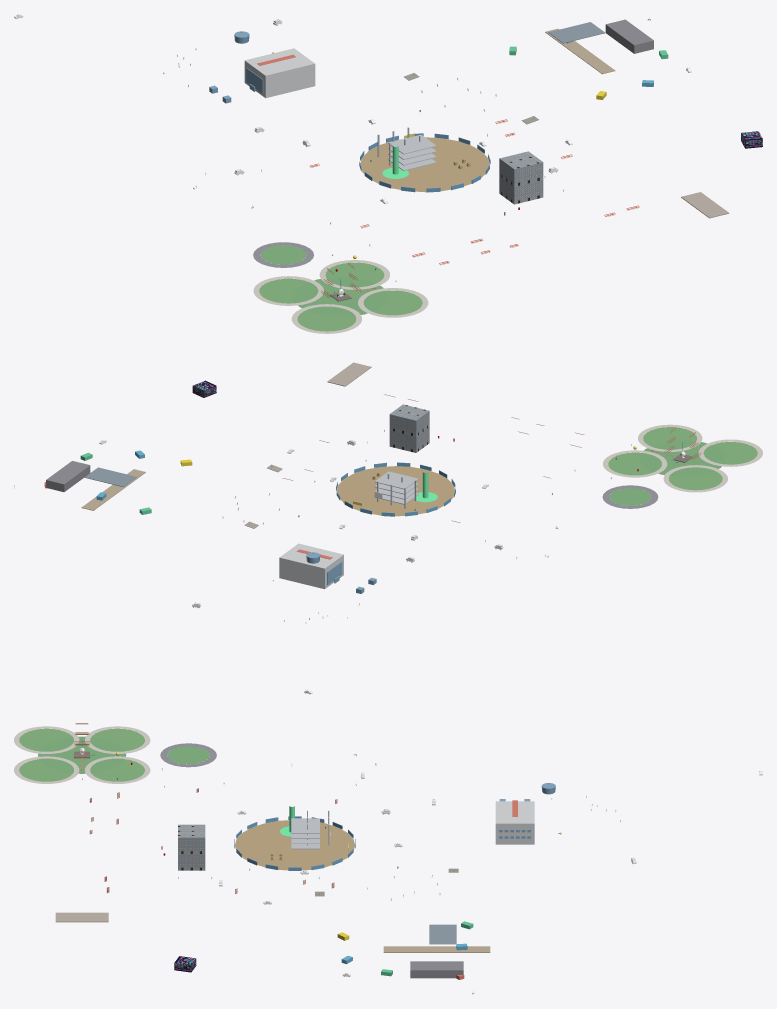
File: tile_0_-500.glb
The picture shows the model from 3 angles, top to bottom: view 1: azimuth 30°, elevation 25°; view 2: azimuth 150°, elevation 25°; view 3: azimuth 270°, elevation 25°; orthographic projection. The views are drawn at different scales.
Visible parts, largest first — view 1: tile; view 2: tile; view 3: tile.
Boxes of the visible parts, bbox=[...] form: tile: bbox=[14, 14, 762, 333]; tile: bbox=[14, 362, 762, 694]; tile: bbox=[14, 723, 762, 994].
Size of the model in its own units: 353 by 28 by 422.
73 materials, 17 textured.
